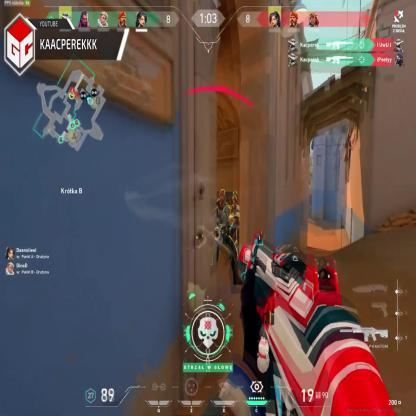enemy: (208, 188, 238, 291), (228, 193, 242, 266)
enemy_head: (232, 192, 237, 206), (220, 190, 225, 203)
